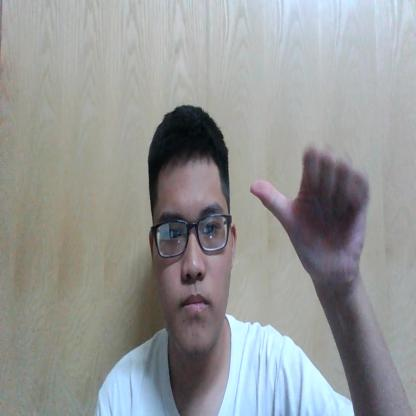right: (250, 143, 367, 276)
